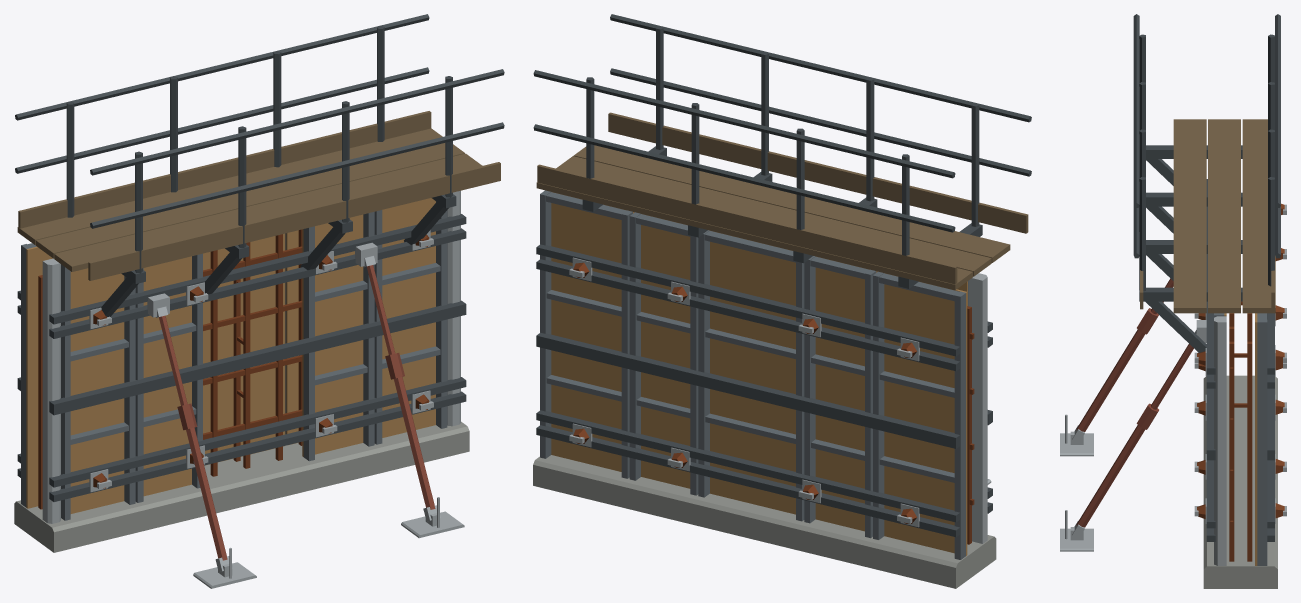
File: formwork-wall-panel-run-52e9f5.glb
The picture shows the model from 3 angles, left to right: view 1: azimuth 30°, elevation 25°; view 2: azimuth 150°, elevation 25°; view 3: azimuth 270°, elevation 25°; orthographic projection. The views are drawn at different scales.
Visible parts, largest first — view 1: formwork, prop-l-body, prop-r-body; view 2: formwork; view 3: formwork, prop-r-body, prop-l-body.
Boxes of the visible parts, x1,y1,x2,y2 form: formwork: [14, 14, 504, 588]; prop-l-body: [156, 306, 232, 572]; prop-r-body: [363, 256, 440, 521]; formwork: [533, 14, 1031, 588]; formwork: [1060, 14, 1286, 588]; prop-r-body: [1072, 330, 1196, 538]; prop-l-body: [1072, 278, 1173, 443].
Bounding box in the file's own units: 4 × 3.78 × 2.01.
